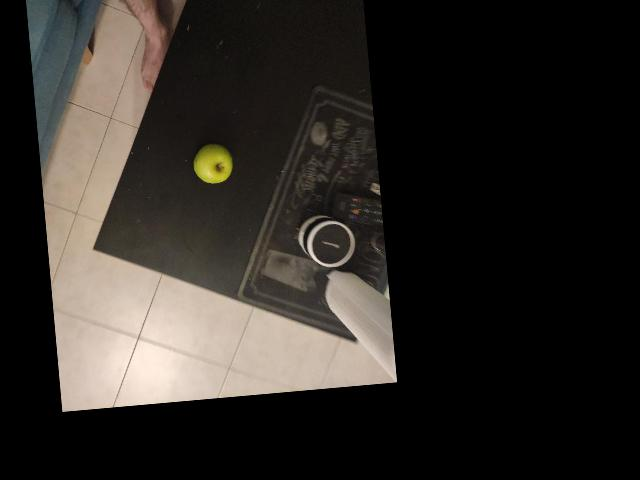apple: (186, 142, 236, 191)
